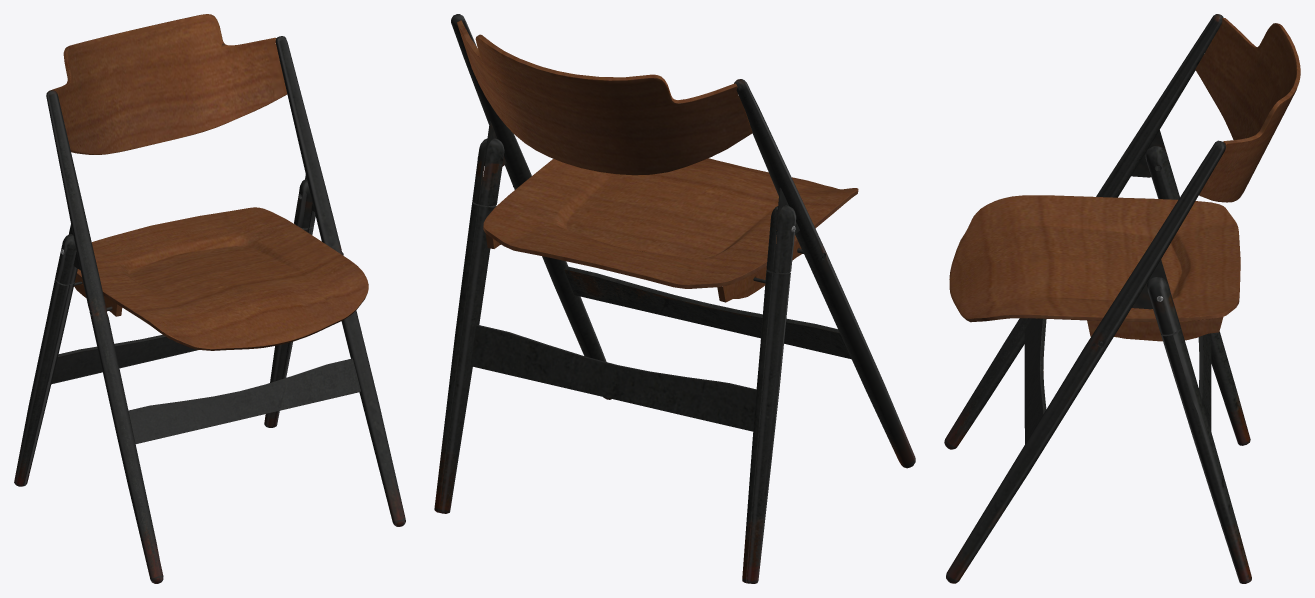
Rendered from chair_chair_4b0d0f55-7c5a-5014-896c-58ddf083b3b6.glb.
3 renders of one model, left to right at view 1: azimuth 30°, elevation 25°; view 2: azimuth 150°, elevation 25°; view 3: azimuth 270°, elevation 25°, orthographic. The views are drawn at different scales.
Parts seen in each view (by area): view 1: raw_model.obj; view 2: raw_model.obj; view 3: raw_model.obj.
Part boxes in pixels (left/top/right/bottom): raw_model.obj: left=14, top=14, right=405, bottom=583; raw_model.obj: left=434, top=14, right=915, bottom=583; raw_model.obj: left=944, top=14, right=1300, bottom=583.
Bounding box in the file's own units: 0.6412 × 0.9612 × 0.6745.
Materials: 1 (1 with a texture image).
